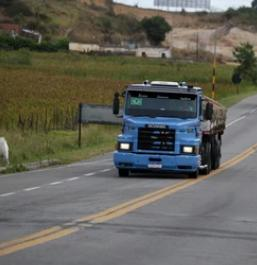vehicle: (113, 80, 226, 179)
